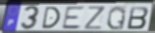3: (19, 5, 41, 31)
B: (126, 6, 150, 30)
D: (41, 6, 62, 30)
E: (60, 6, 86, 30)
Q: (106, 5, 128, 31)
Z: (83, 5, 106, 31)
